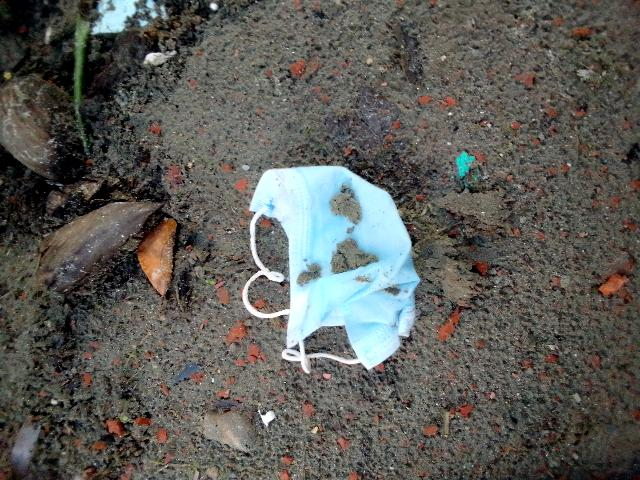mask: (234, 138, 426, 369)
